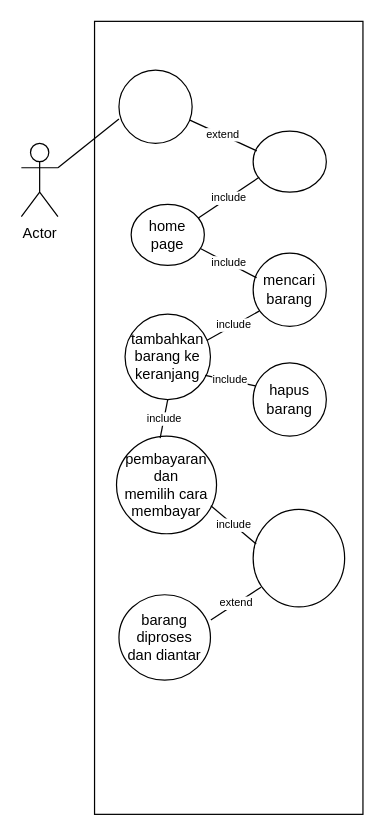
Image size: 384x836. Some labels were removed from this diagram. The centre of each missing label's shape, as x and y in pixels:
"login" belongs at [289,161].
"pembayaran selesai" belongs at [298,557].
"register" belongs at [155,106].
